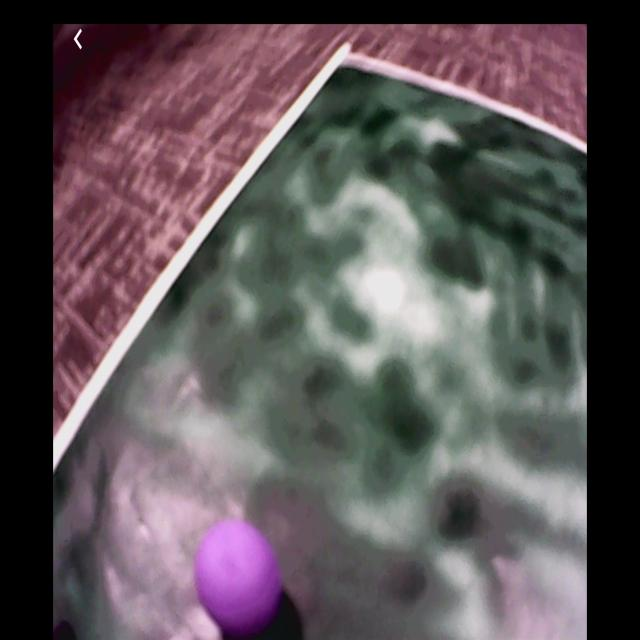ball: (198, 521, 280, 632)
